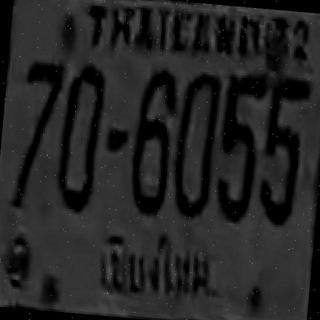N00: (52, 61, 108, 208), (170, 70, 220, 216)
N05: (215, 68, 266, 222), (258, 73, 309, 226)
N06: (129, 66, 179, 216)
N07: (14, 58, 63, 208)
P11: (94, 225, 215, 300)
